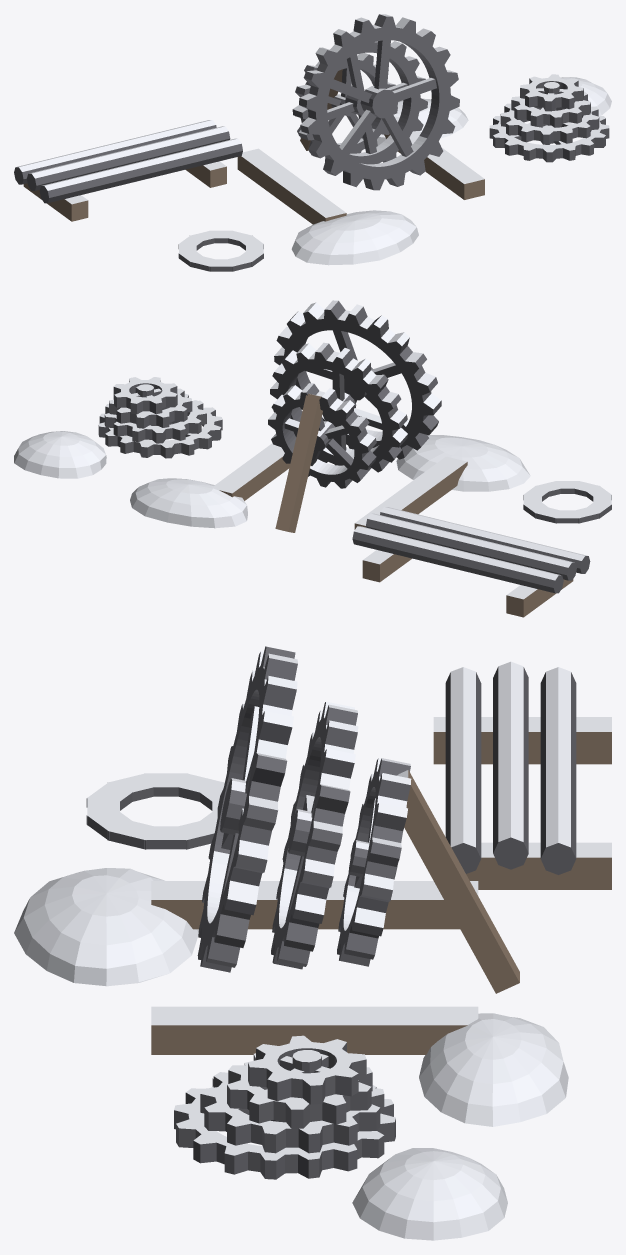
The model's file is PR_Pilha_Engrenagens.fbx.
The picture shows the model from 3 angles, top to bottom: view 1: azimuth 30°, elevation 25°; view 2: azimuth 150°, elevation 25°; view 3: azimuth 270°, elevation 25°; orthographic projection. The views are drawn at different scales.
Visible parts, largest first — view 1: PR_Pilha_Engrenagens; view 2: PR_Pilha_Engrenagens; view 3: PR_Pilha_Engrenagens.
Part boxes in pixels (<box>): PR_Pilha_Engrenagens: <box>14,14,611,271</box>; PR_Pilha_Engrenagens: <box>14,300,611,617</box>; PR_Pilha_Engrenagens: <box>14,646,611,1240</box>.
Size of the model in its own units: 8 by 2.43 by 4.02.
